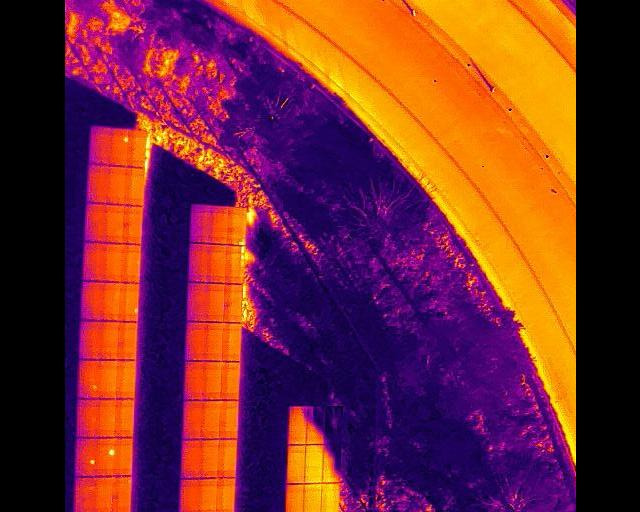Cell: (74, 439, 96, 477), (78, 360, 98, 400), (94, 438, 114, 477), (107, 127, 126, 168), (120, 283, 138, 322)
Cell-Multi: (223, 245, 243, 283), (228, 207, 245, 246)
No-Anomaly: (75, 399, 98, 438), (102, 243, 123, 283), (79, 282, 100, 322), (186, 243, 206, 284), (98, 320, 118, 361), (114, 399, 134, 439), (84, 204, 105, 242), (217, 401, 237, 440), (201, 322, 221, 361), (103, 166, 123, 205), (287, 444, 306, 485), (202, 361, 221, 401), (116, 360, 135, 400), (113, 437, 132, 477), (88, 127, 108, 165), (84, 164, 103, 204), (216, 439, 235, 478), (209, 205, 228, 244), (189, 205, 208, 244), (123, 167, 142, 206), (84, 243, 103, 282), (79, 321, 97, 362), (183, 360, 201, 401), (205, 245, 224, 283), (101, 283, 120, 321), (223, 283, 241, 323), (123, 204, 141, 244), (97, 399, 115, 439), (97, 360, 115, 400), (194, 478, 215, 512), (221, 323, 239, 362), (204, 284, 222, 323), (117, 321, 135, 360), (104, 205, 122, 244), (93, 477, 113, 512), (198, 439, 216, 477), (214, 478, 234, 512), (73, 478, 93, 512), (123, 243, 140, 283), (126, 130, 144, 167), (111, 477, 130, 512), (187, 283, 204, 322), (184, 322, 201, 361), (221, 361, 237, 402), (200, 401, 217, 439), (305, 444, 321, 484), (184, 401, 200, 440), (182, 439, 197, 479), (301, 484, 320, 512), (283, 484, 302, 512), (320, 482, 337, 512), (179, 479, 194, 512)
Shadowing: (321, 444, 340, 484), (304, 406, 323, 445), (322, 405, 340, 444), (288, 406, 306, 445)
